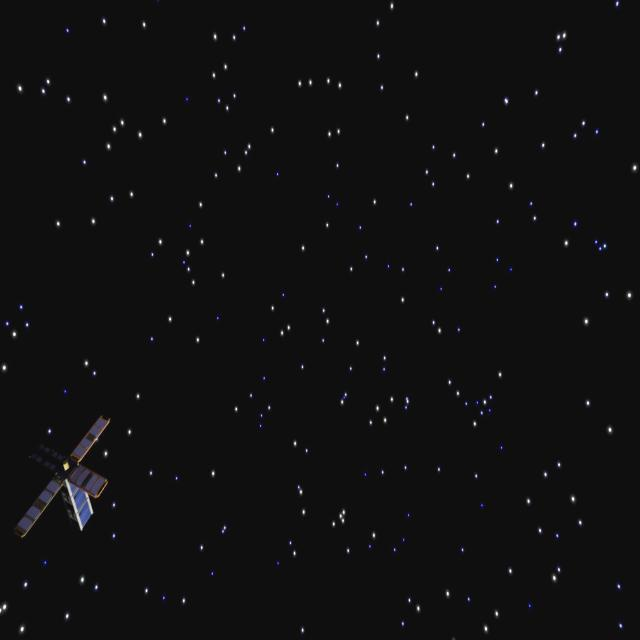satellite: (14, 413, 136, 543)
